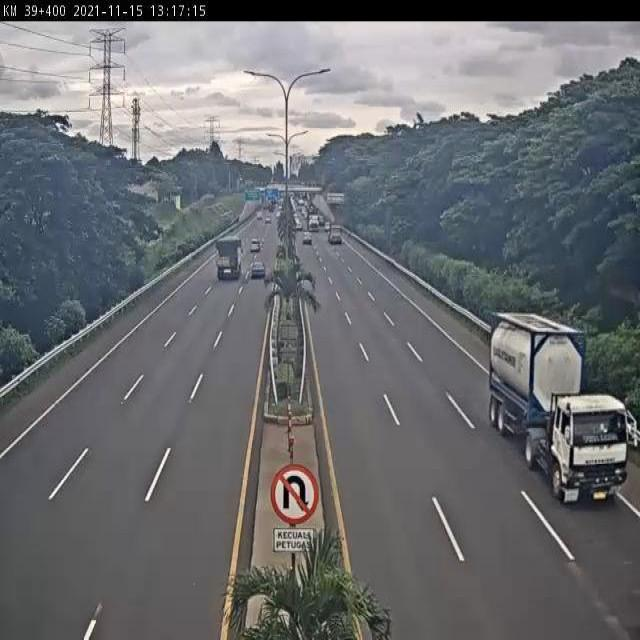car: (249, 260, 267, 281)
truck-l-: (214, 232, 244, 283)
truck-xl-: (488, 316, 629, 515)
